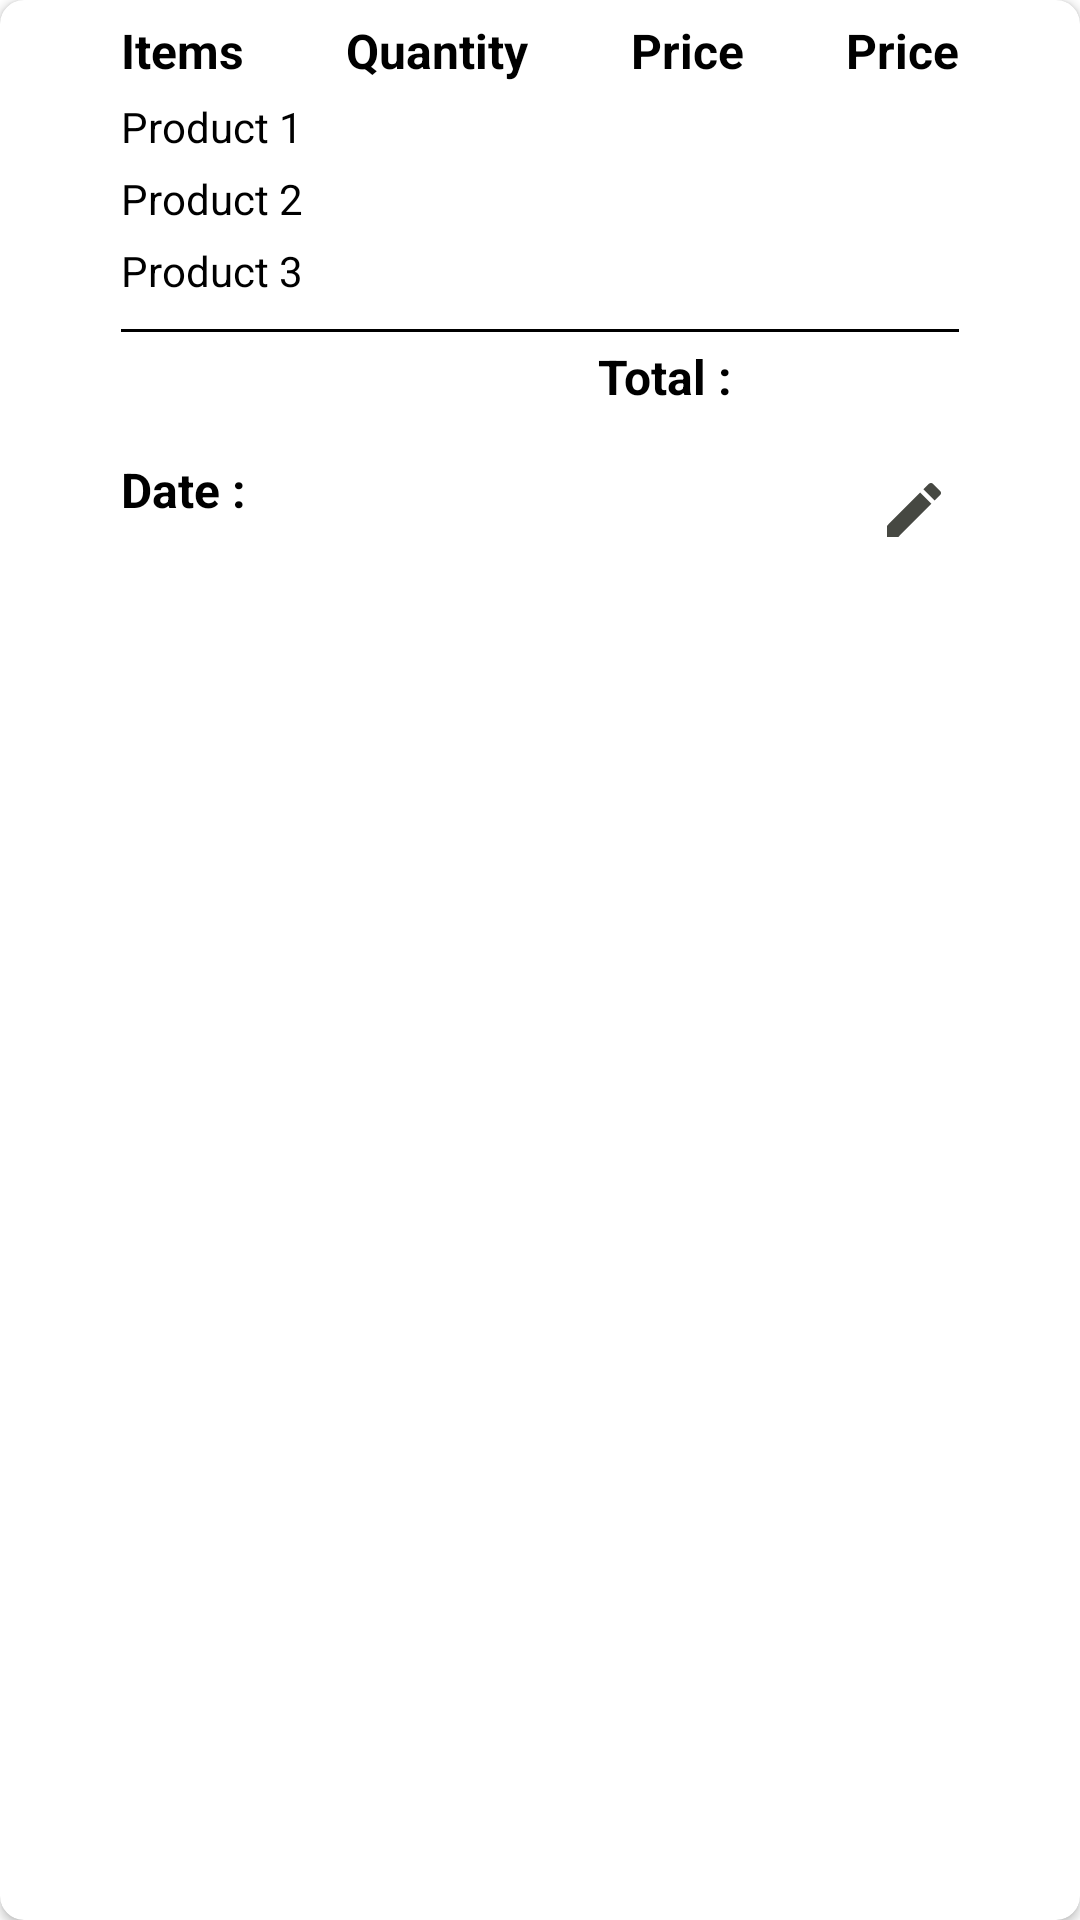

Icons on this 1080px×1920px Android screen, each with the point to tap as (x=x, y=y):
edit: (x=914, y=510)
